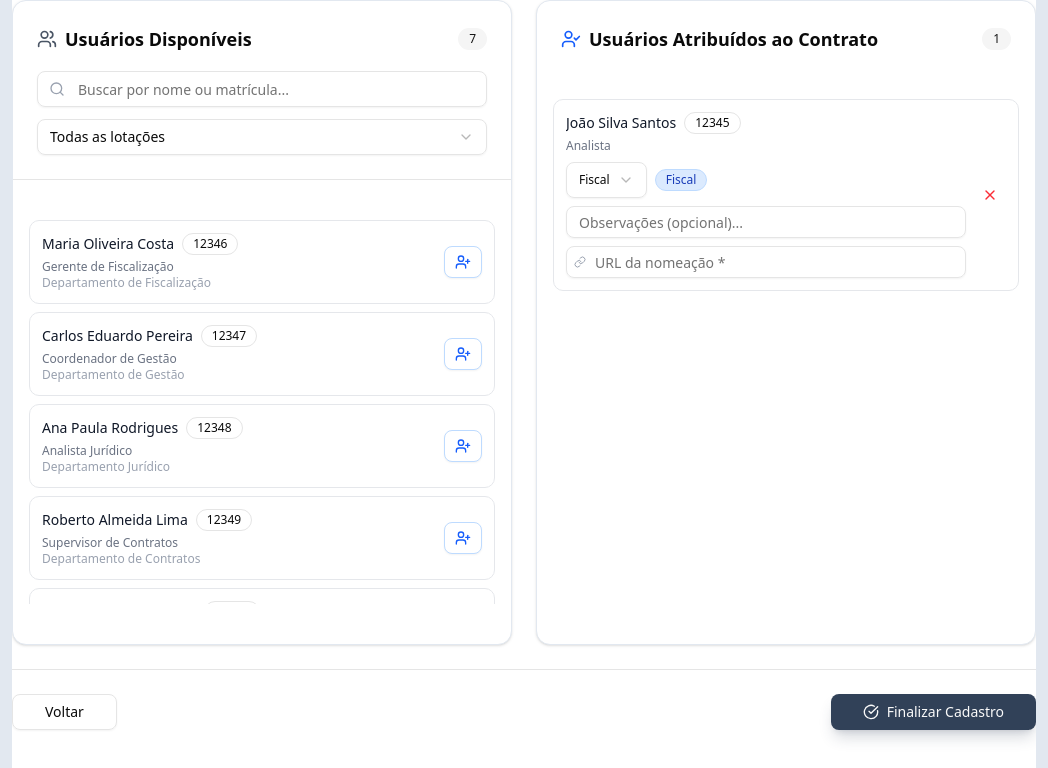
Test case: AtribuicaoFiscaisForm › Seleção de tipo de usuário › deve permitir selecionar tipo "gestor"
The width and height of the screenshot is (1048, 768).
Step 1. Click the dropdown labelled "Fiscal" → {"x": 606, "y": 180}, box [566, 162, 647, 198]
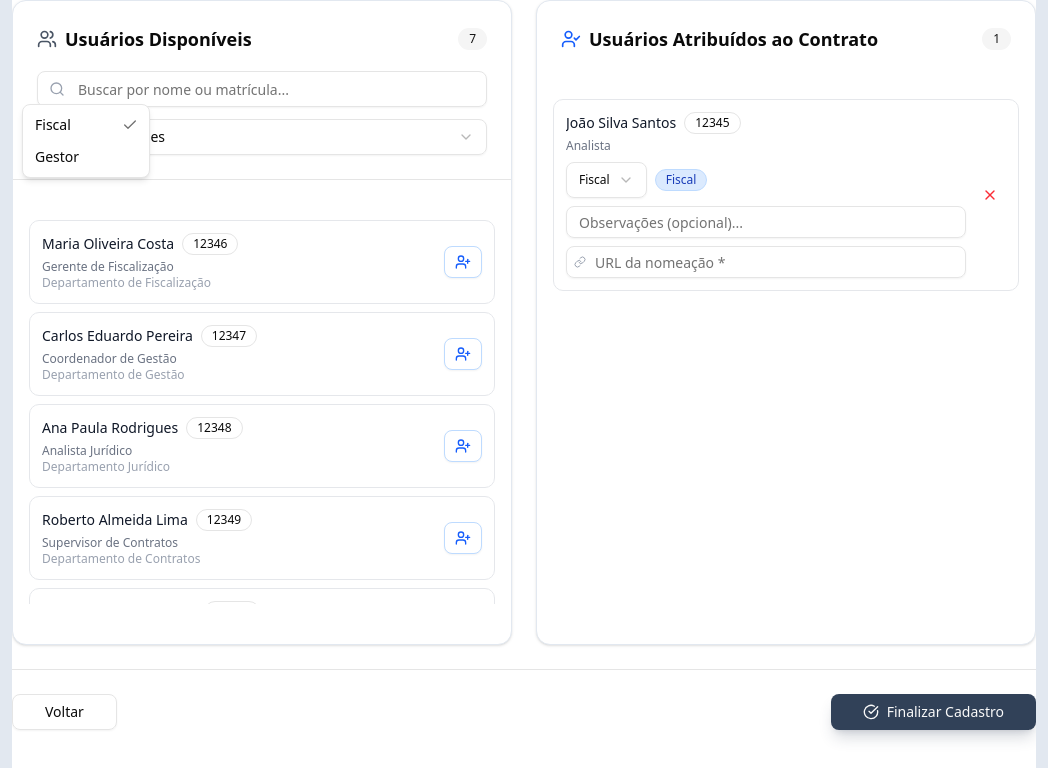
# Usa getAllByText e pega o primeiro elemento (opção do select)
Step 2. Click the option "Gestor" → {"x": 57, "y": 156}, box [35, 147, 79, 166]
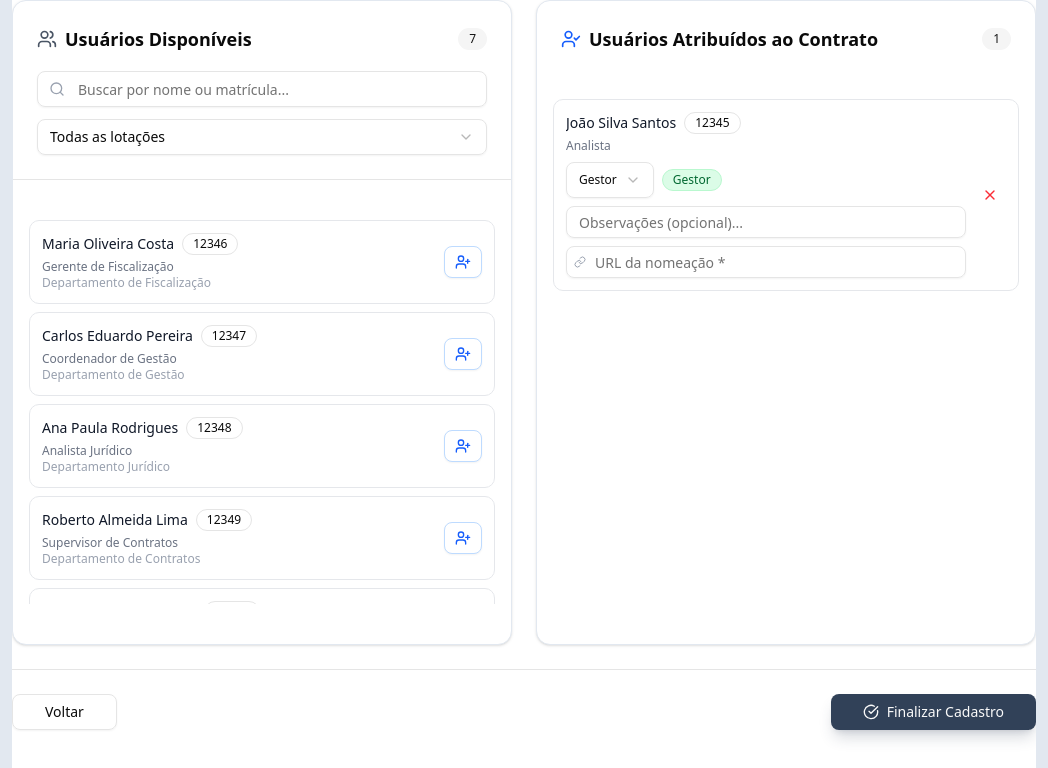
Check: the 2nd text "Gestor" is shown, box [662, 169, 722, 191]
